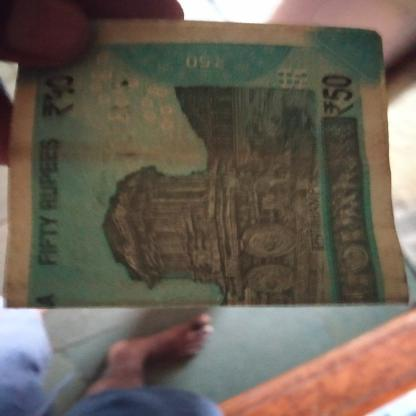New50Back: (21, 36, 380, 308)
